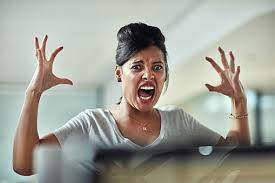Angry: (129, 57, 164, 106)
